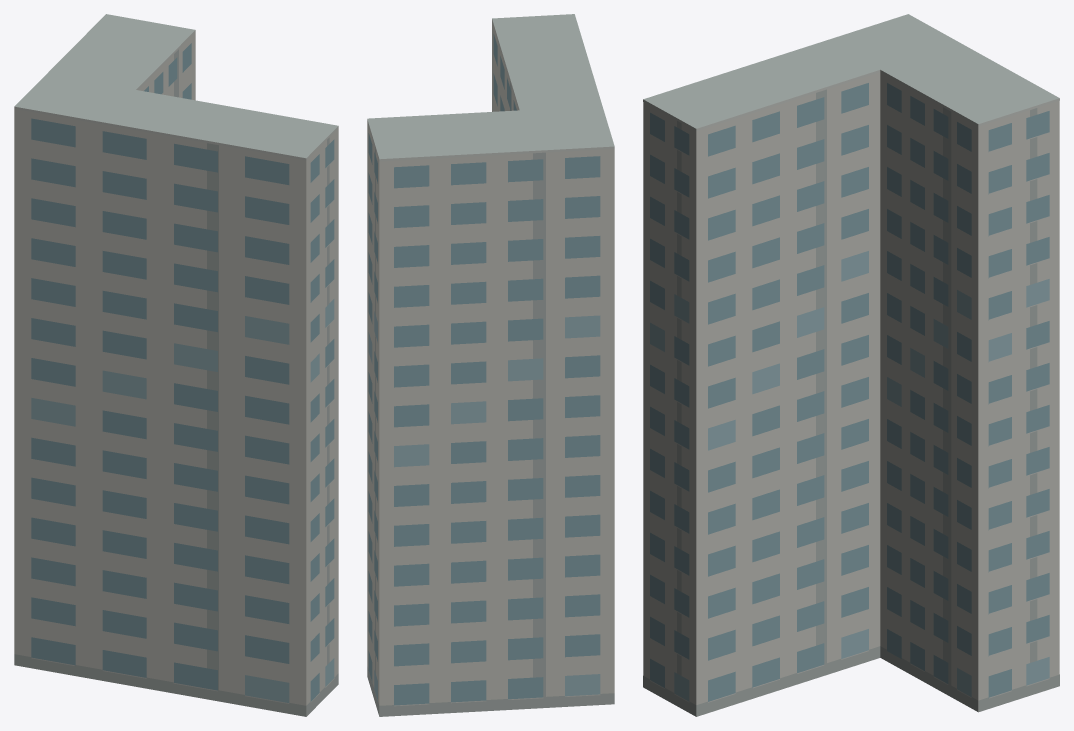
Rendered from residential-f08ea0d3-3bb7-472d-9ffd-1924636b8dce.glb.
3 views of the same model, side by side, from view 1: azimuth 30°, elevation 25°; view 2: azimuth 150°, elevation 25°; view 3: azimuth 270°, elevation 25° (orthographic). The views are drawn at different scales.
Visible parts, largest first — view 1: residential-f08ea0d3-3bb7-472d-9ffd-1924636b8dce.tmp; view 2: residential-f08ea0d3-3bb7-472d-9ffd-1924636b8dce.tmp; view 3: residential-f08ea0d3-3bb7-472d-9ffd-1924636b8dce.tmp.
Part boxes in pixels (left/top/right/bottom): residential-f08ea0d3-3bb7-472d-9ffd-1924636b8dce.tmp: left=14, top=14, right=338, bottom=716; residential-f08ea0d3-3bb7-472d-9ffd-1924636b8dce.tmp: left=367, top=14, right=614, bottom=716; residential-f08ea0d3-3bb7-472d-9ffd-1924636b8dce.tmp: left=643, top=14, right=1059, bottom=716.
Size of the model in its own units: 23.89 by 57 by 36.61.
